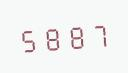eight: (64, 19, 86, 51), (41, 21, 63, 52)
five: (18, 23, 40, 54)
seven: (87, 18, 109, 49)
